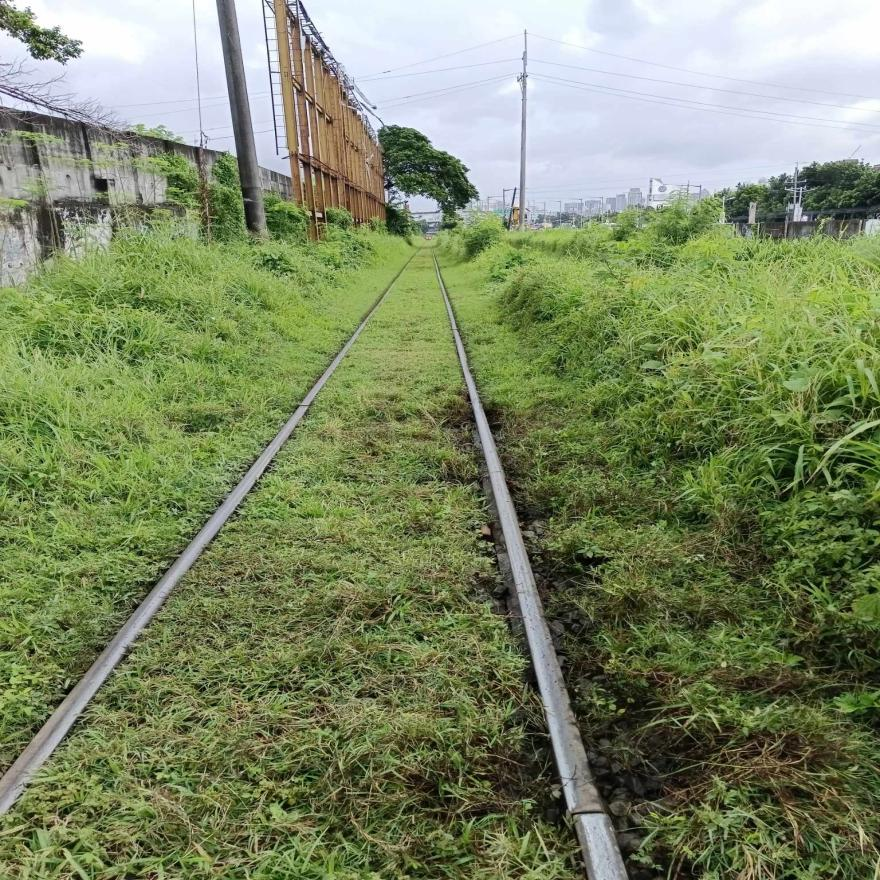railway-gap: (539, 779, 631, 847)
